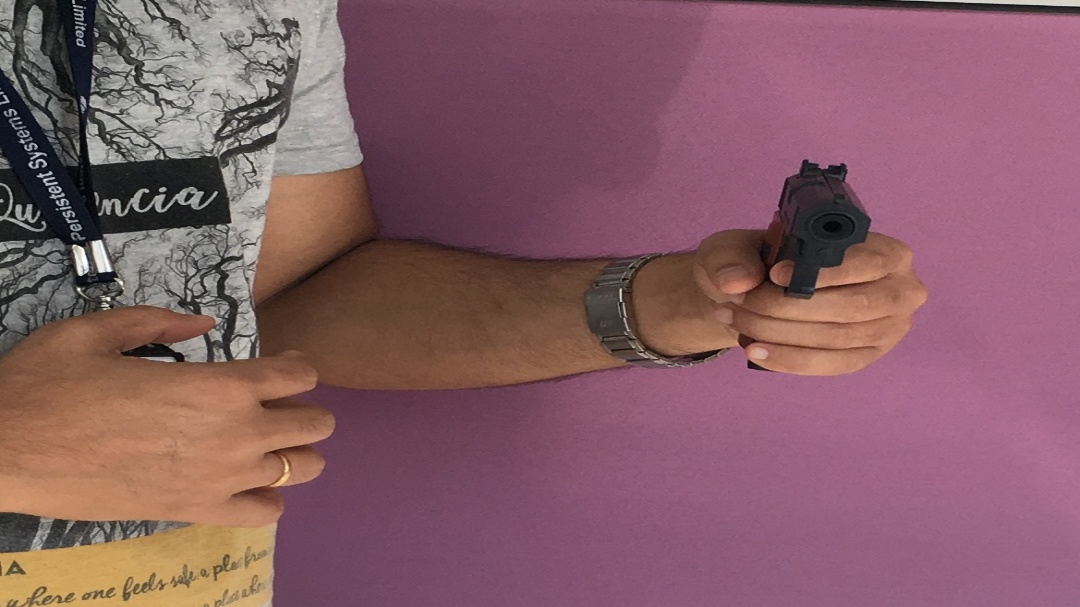gun: (765, 158, 870, 298)
